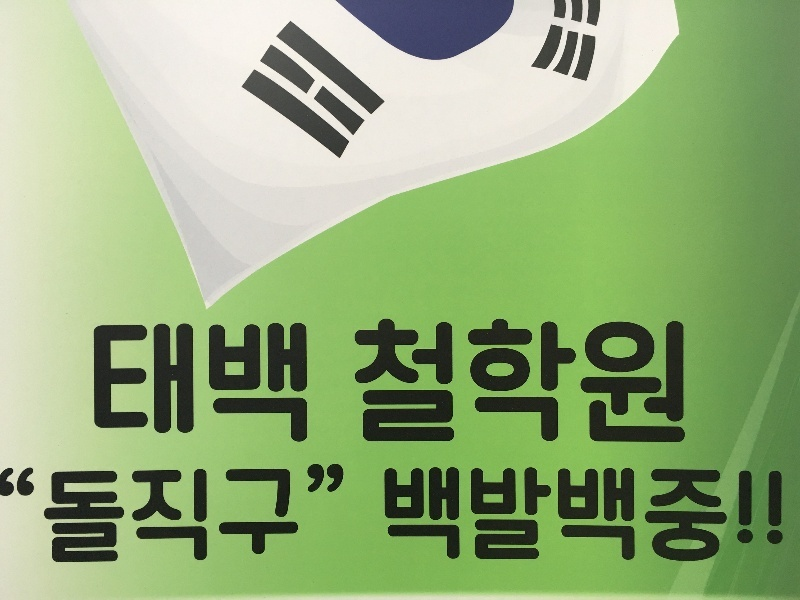text: (353, 310, 368, 461), (369, 310, 384, 461), (385, 310, 400, 461), (401, 310, 416, 461), (417, 310, 432, 461), (433, 310, 448, 461), (449, 310, 464, 461), (465, 310, 480, 461), (481, 310, 496, 461), (497, 310, 512, 461), (513, 310, 528, 461), (529, 310, 544, 461), (545, 310, 560, 461), (561, 310, 576, 461), (577, 310, 592, 461), (593, 310, 608, 461), (609, 310, 624, 461), (625, 310, 640, 461), (641, 310, 656, 461), (657, 310, 672, 461), (673, 310, 688, 461), (81, 317, 96, 453), (97, 317, 112, 453), (113, 317, 128, 453), (129, 317, 144, 453), (145, 317, 160, 453), (161, 317, 176, 453), (177, 317, 192, 453), (193, 317, 208, 453), (209, 317, 224, 453), (225, 317, 240, 453), (241, 317, 256, 453), (257, 317, 272, 453), (273, 317, 288, 453), (289, 317, 304, 453), (305, 317, 320, 453), (17, 462, 32, 585), (33, 462, 48, 585), (49, 462, 64, 585), (65, 462, 80, 585), (81, 462, 96, 585), (97, 462, 112, 585), (113, 462, 128, 585), (129, 462, 144, 585), (145, 462, 160, 585), (161, 462, 176, 585), (177, 462, 192, 585), (193, 462, 208, 585), (209, 462, 224, 585), (225, 462, 240, 585), (241, 462, 256, 585), (257, 462, 272, 585), (273, 462, 288, 585), (289, 462, 304, 585), (305, 462, 320, 585), (321, 462, 336, 585), (337, 462, 352, 585), (2, 462, 16, 585), (369, 461, 384, 575), (385, 461, 400, 575), (401, 461, 416, 575), (417, 461, 432, 575), (433, 461, 448, 575), (449, 461, 464, 575), (465, 461, 480, 575), (481, 461, 496, 575), (497, 461, 512, 575), (513, 461, 528, 575), (529, 461, 544, 575), (545, 461, 560, 575), (561, 461, 576, 575), (577, 461, 592, 575), (593, 461, 608, 575), (609, 461, 624, 575), (625, 461, 640, 575), (641, 461, 656, 575), (657, 461, 672, 575), (673, 461, 688, 575), (689, 461, 704, 575), (705, 461, 720, 575), (721, 461, 736, 575), (737, 461, 752, 575), (753, 461, 768, 575), (769, 461, 784, 575), (689, 310, 700, 461), (345, 310, 352, 461), (76, 317, 80, 453), (785, 461, 789, 575), (321, 317, 324, 453), (353, 462, 354, 585)
